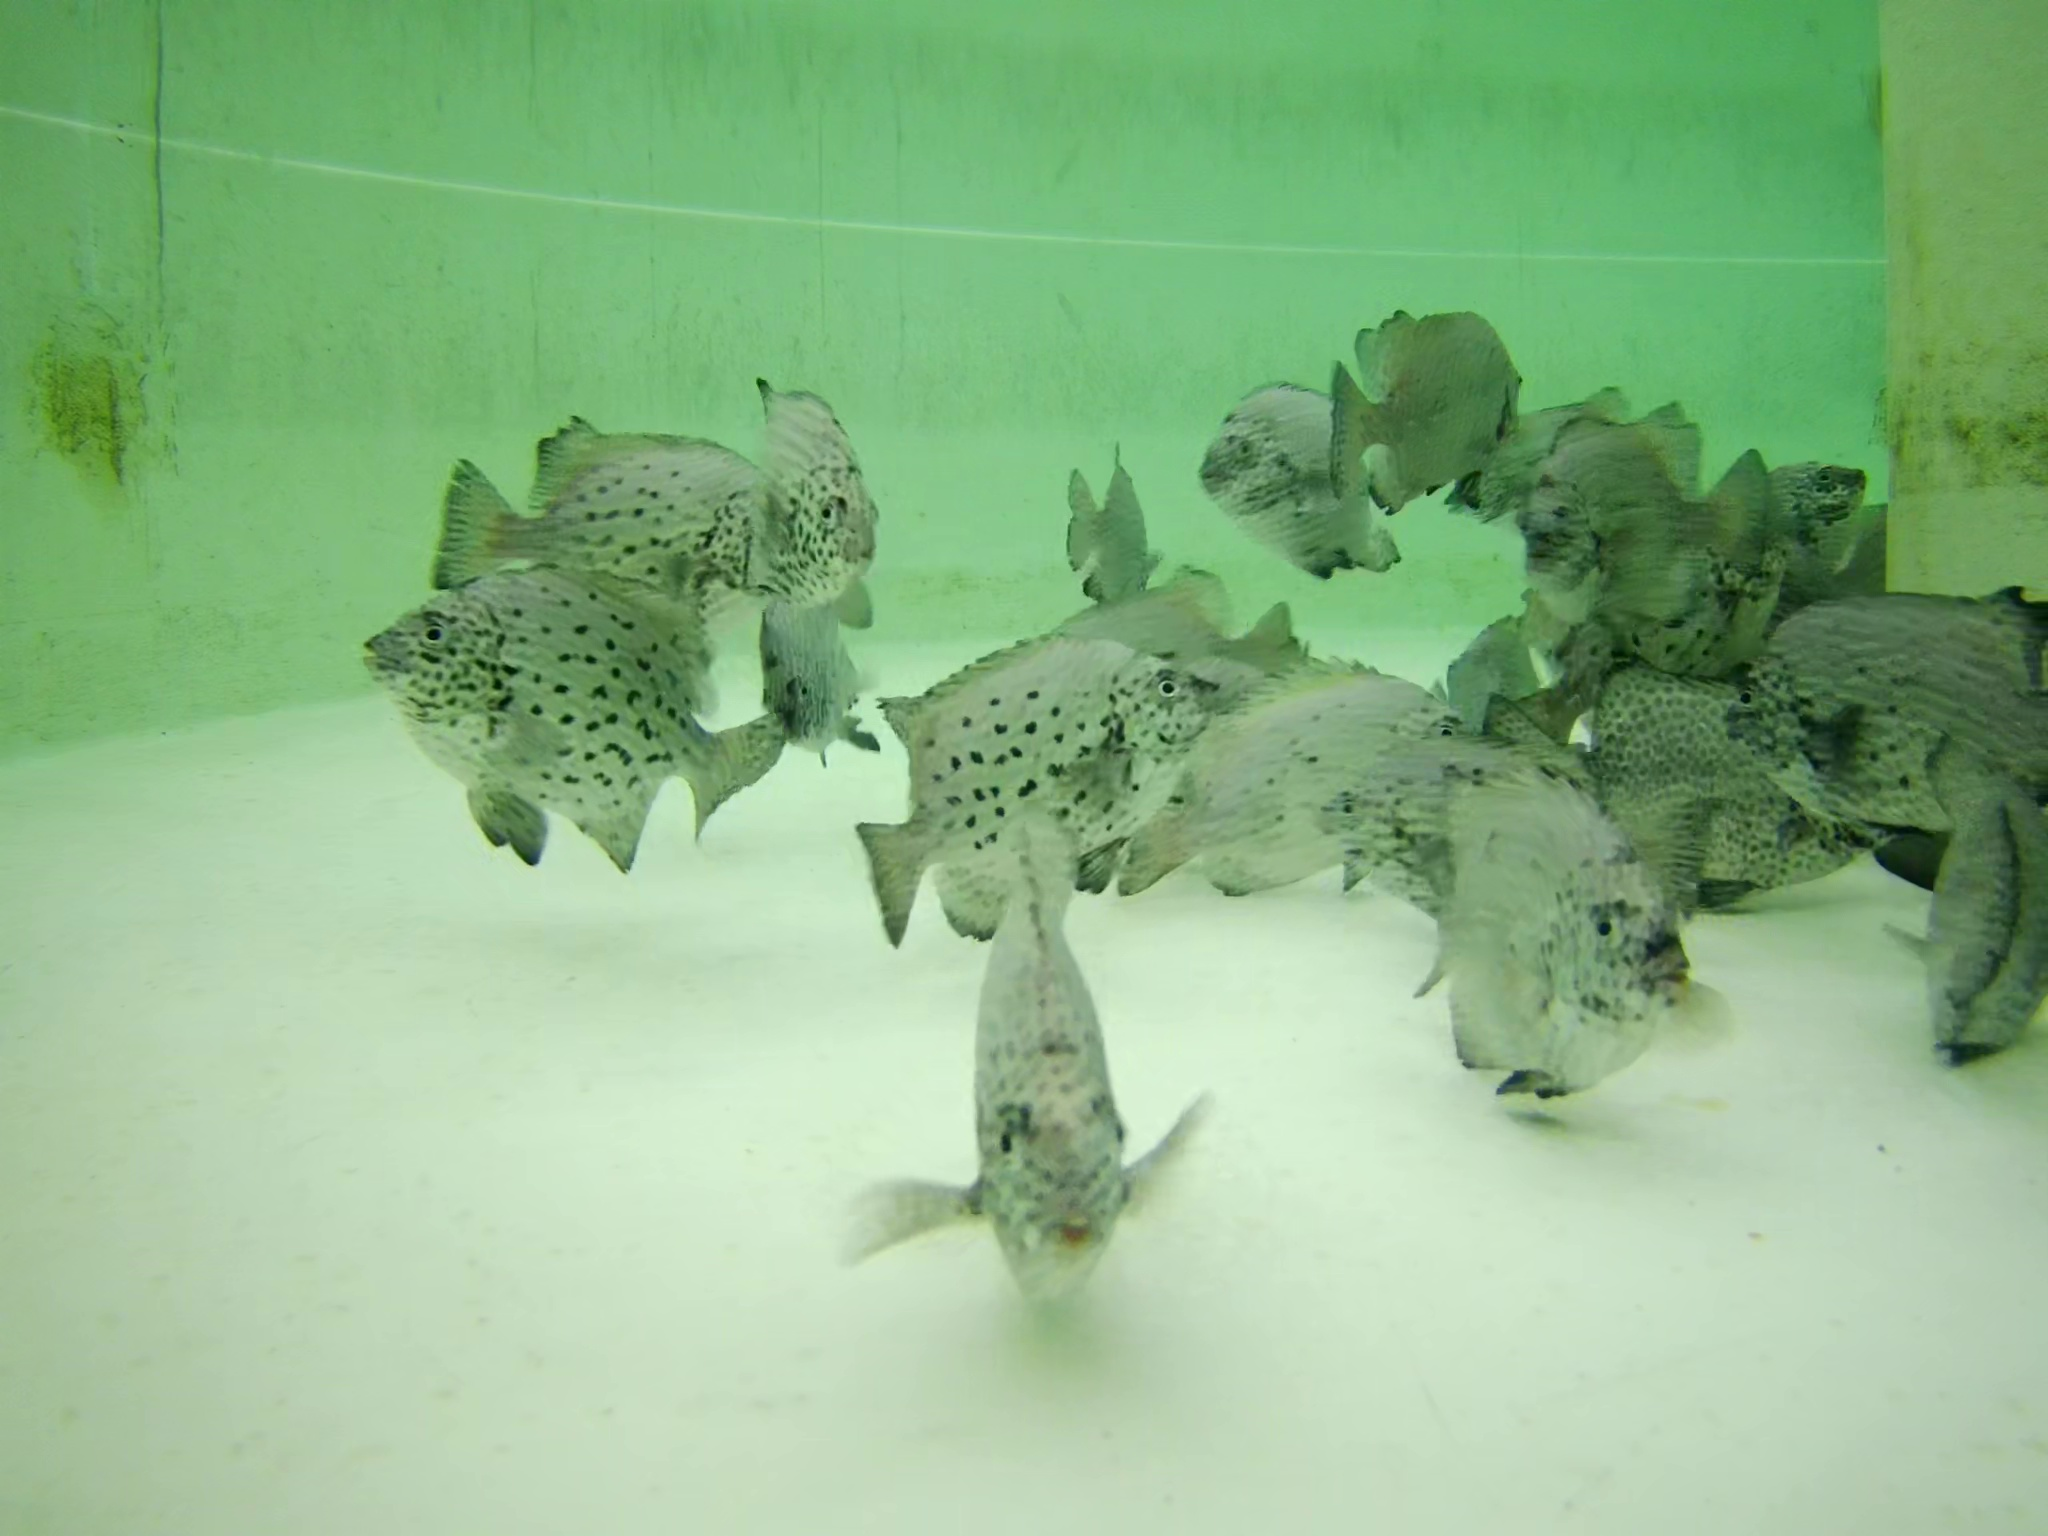fish: (837, 820, 1222, 1288), (364, 568, 803, 870), (864, 629, 1216, 926), (1409, 763, 1700, 1110), (429, 413, 800, 636), (1495, 679, 1898, 881), (1129, 666, 1479, 899), (1725, 574, 2037, 821), (1522, 407, 1766, 621), (1180, 369, 1387, 576), (760, 357, 903, 621), (1326, 313, 1529, 490), (1937, 752, 2048, 1068), (756, 595, 898, 762), (1914, 786, 2017, 997), (1053, 440, 1161, 615), (1471, 397, 1635, 503), (1135, 603, 1314, 691), (1435, 610, 1534, 744)
